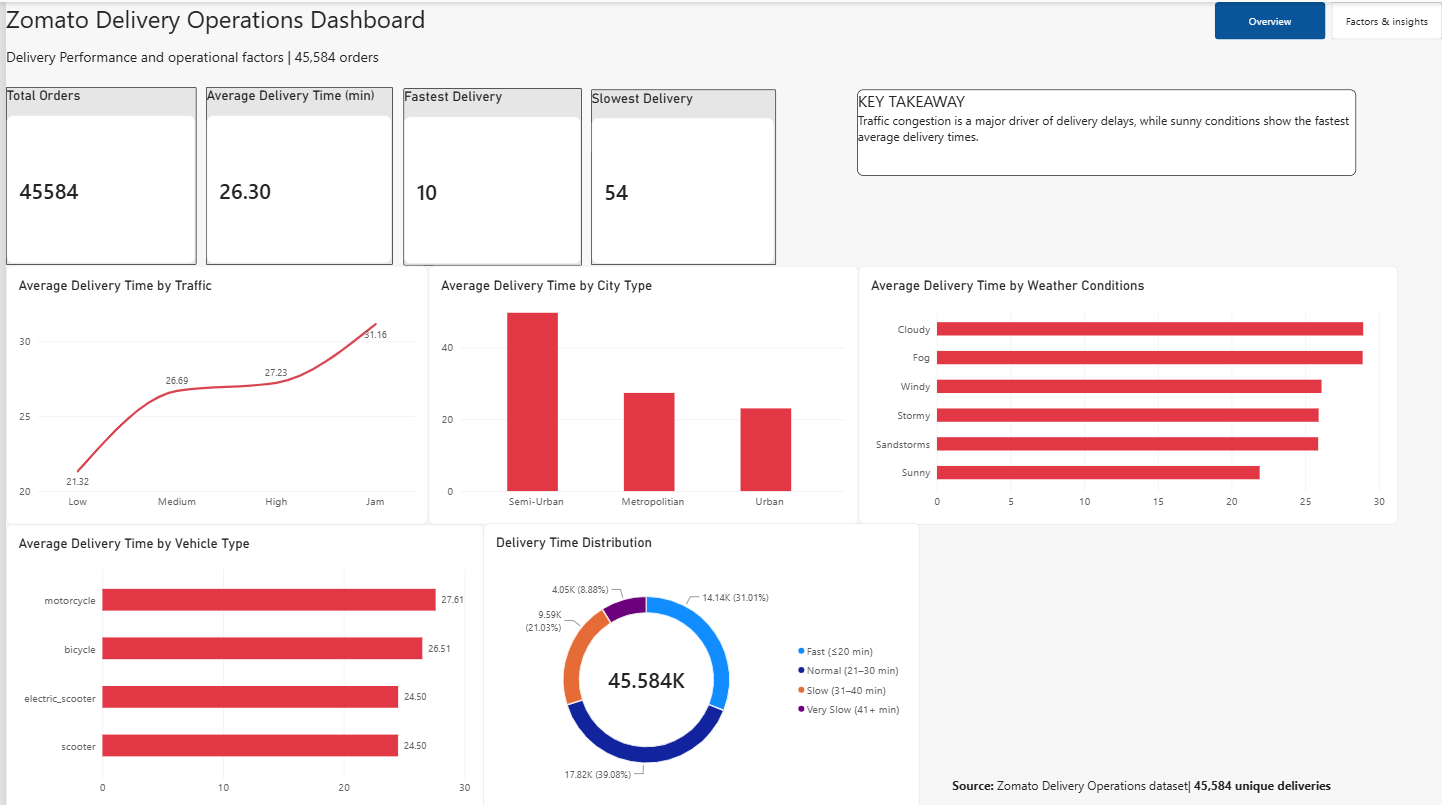

Layout of this report page (visuals, bound fields, positions):
{"tool":"powerbi","page":{"name":"Overview","canvas":[1920,1080],"ordinal":0},"visuals":[{"type":"cardVisual","title":"Total Orders","fields":{"Data":["CountNonNull(zomato_delivery_final.ID)"]},"box":[0,113.4,254.7,237.2],"z":0},{"type":"cardVisual","title":"Average Delivery Time (min)","fields":{"Data":["Avg(zomato_delivery_final.Time_taken_min)"]},"box":[266.9,113.4,249.4,237.2],"z":1000},{"type":"cardVisual","title":"Fastest Delivery","fields":{"Data":["Min(zomato_delivery_final.Time_taken_min)"]},"box":[530.2,115.1,238.8,236.7],"z":2000},{"type":"cardVisual","title":"Slowest Delivery","fields":{"Data":["Max(zomato_delivery_final.Time_taken_min)"]},"box":[781.4,116.9,247,234.6],"z":3000},{"type":"lineChart","title":"Average Delivery Time by Traffic","fields":{"Category":["zomato_delivery_final.Road_traffic_density"],"Y":["Avg(zomato_delivery_final.Time_taken_min)"]},"box":[0,352,564,345.8],"z":4000},{"type":"clusteredColumnChart","title":"Average Delivery Time by City Type","fields":{"Category":["zomato_delivery_final.City"],"Y":["Avg(zomato_delivery_final.Time_taken_min)"]},"box":[564,352,574.3,345.8],"z":5000},{"type":"clusteredBarChart","title":"Average Delivery Time by Weather Conditions","fields":{"Category":["zomato_delivery_final.Weather_conditions"],"Y":["Avg(zomato_delivery_final.Time_taken_min)"]},"box":[1138.3,352,720.4,345.8],"z":6000},{"type":"clusteredBarChart","title":"Average Delivery Time by Vehicle Type","fields":{"Category":["zomato_delivery_final.Type_of_vehicle"],"Y":["Avg(zomato_delivery_final.Time_taken_min)"]},"box":[0,697.8,638.1,382.8],"z":7000},{"type":"donutChart","title":"Delivery Time Distribution","fields":{"Category":["zomato_delivery_final.Delivery Category"],"Y":["CountNonNull(zomato_delivery_final.ID)"]},"box":[638.4,695.9,582.5,382.8],"z":8000},{"type":"textbox","box":[0,0,1066.2,150.3],"z":9000},{"type":"textbox","box":[1263.8,1035.3,594.9,45.3],"z":10000},{"type":"pageNavigator","box":[1615.1,0,305.2,50.6],"z":11000},{"type":"textbox","box":[1137.2,116.9,666.3,115.1],"z":12000}]}

Visuals, with their boxes in screenshot pixels (x1, y1, x2, y2), scaled from the page's 1920x1080 canvas onto the 1442x805 screenshot:
"Total Orders" cardVisual: 0:85:191:261
"Average Delivery Time (min)" cardVisual: 200:85:388:261
"Fastest Delivery" cardVisual: 398:86:578:262
"Slowest Delivery" cardVisual: 587:87:772:262
"Average Delivery Time by Traffic" lineChart: 0:262:424:520
"Average Delivery Time by City Type" clusteredColumnChart: 424:262:855:520
"Average Delivery Time by Weather Conditions" clusteredBarChart: 855:262:1396:520
"Average Delivery Time by Vehicle Type" clusteredBarChart: 0:520:479:804
"Delivery Time Distribution" donutChart: 479:519:917:804
textbox: 0:0:801:112
textbox: 949:772:1396:804
pageNavigator: 1213:0:1441:38
textbox: 854:87:1355:173
